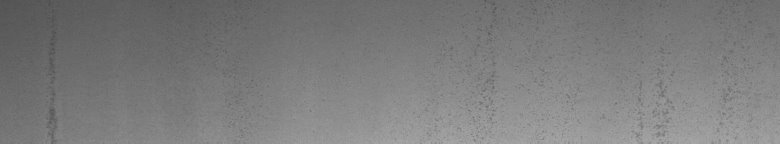ib: (636, 81, 740, 136)
